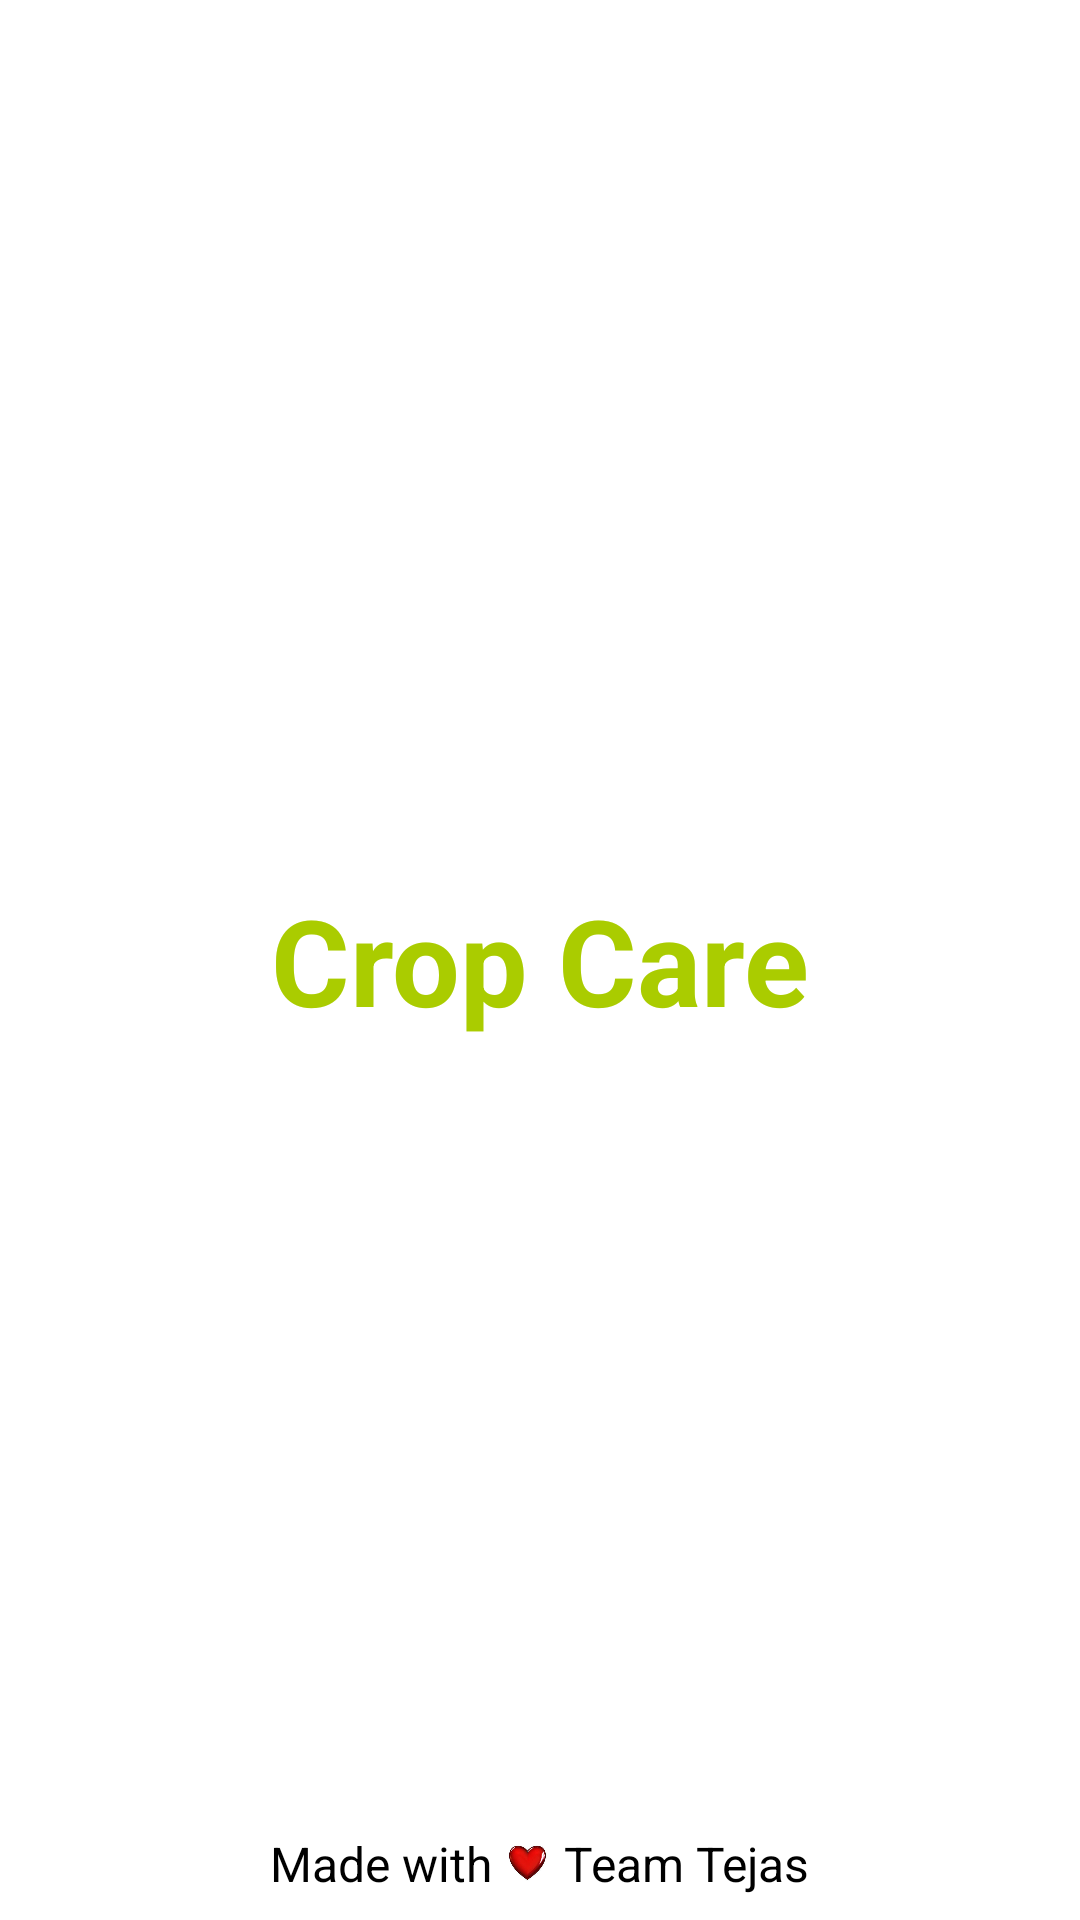

Locate icon controls on the screen. Image size 1080x1920, boxes as (x1, y1, x2, y2).
heart: (509, 1846, 546, 1880)
